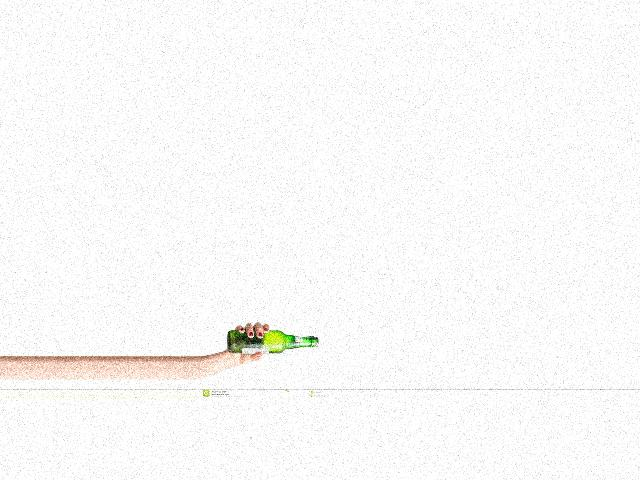beer: (227, 330, 319, 354)
